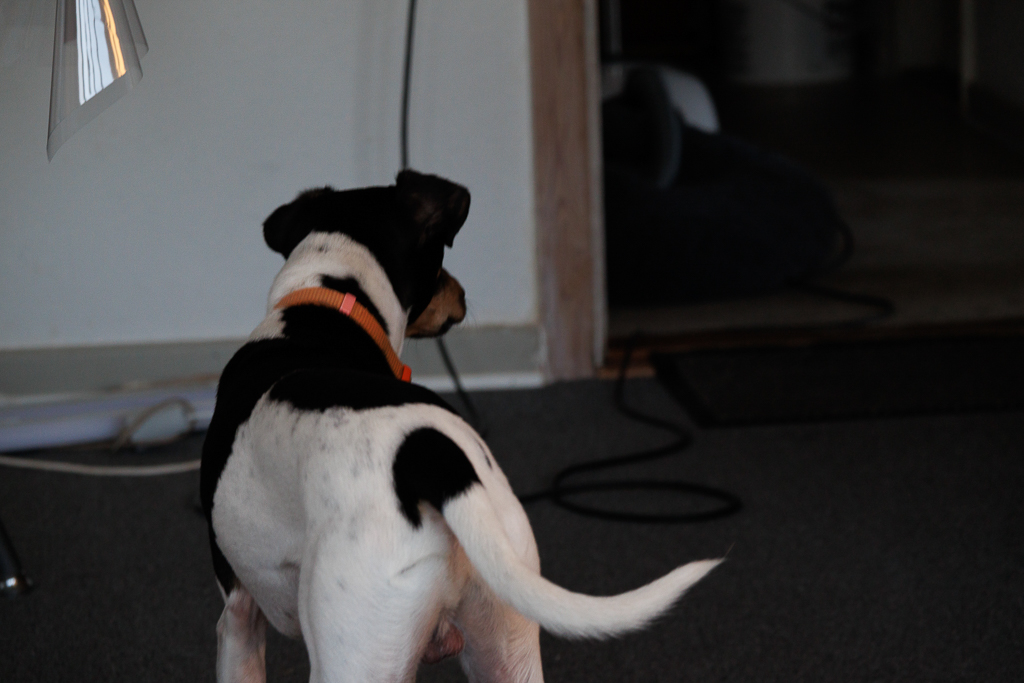Dog: (183, 160, 740, 682)
